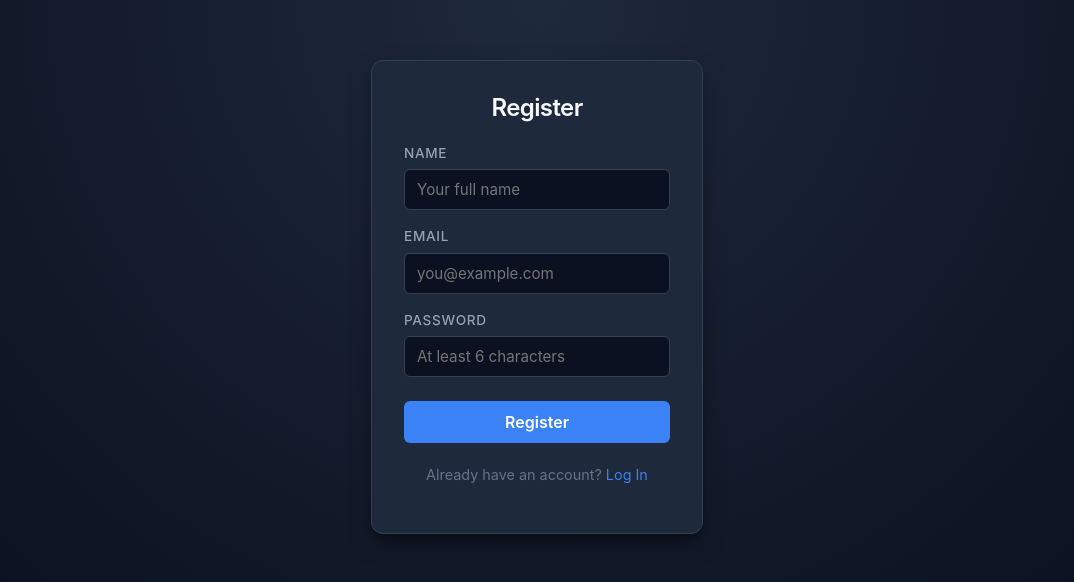
RegisterPage › register with a password under 6 characters shows a length error
Fill in fields using a short 3-character password
Step 1. Type "Alice" into the field labelled "Name" → (537, 190), box x1=404 y1=169 x2=670 y2=210
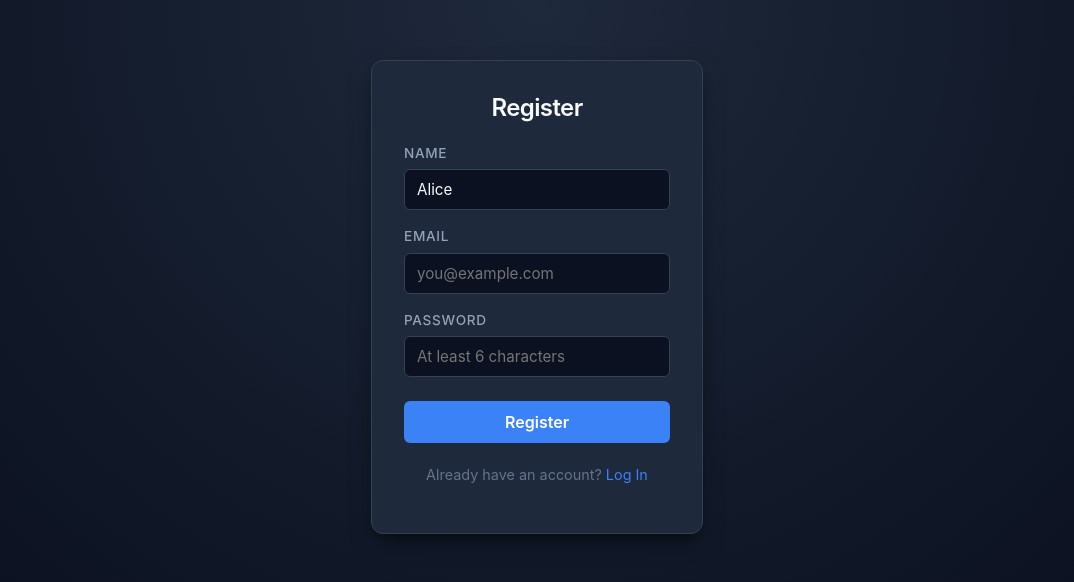
Step 2. Type "alice@example.com" into the field labelled "Email" → (537, 273), box x1=404 y1=253 x2=670 y2=294
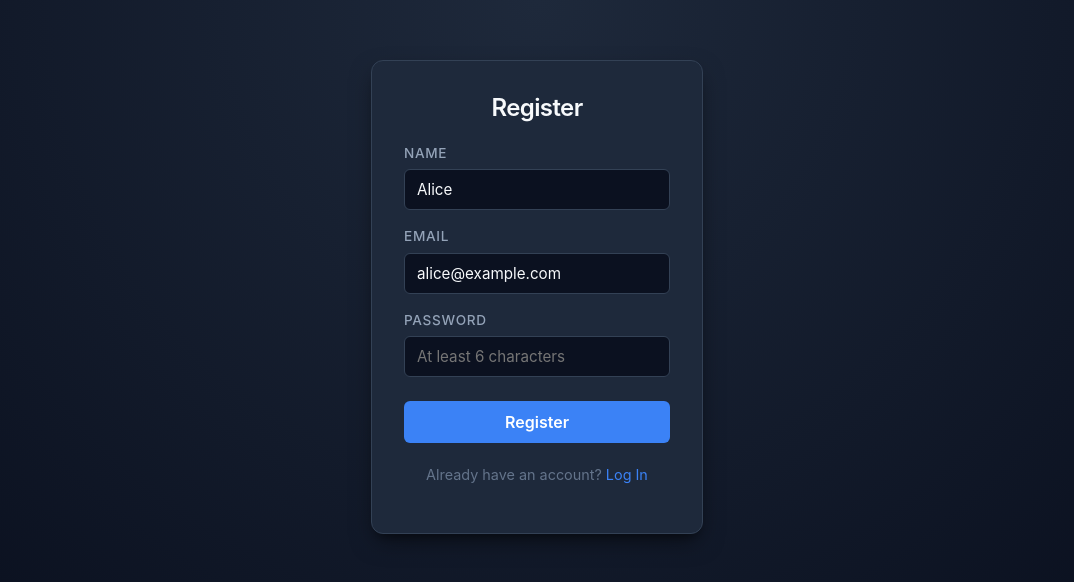
Step 3. Type "abc" into the password field labelled "Password" → (537, 357), box x1=404 y1=336 x2=670 y2=377
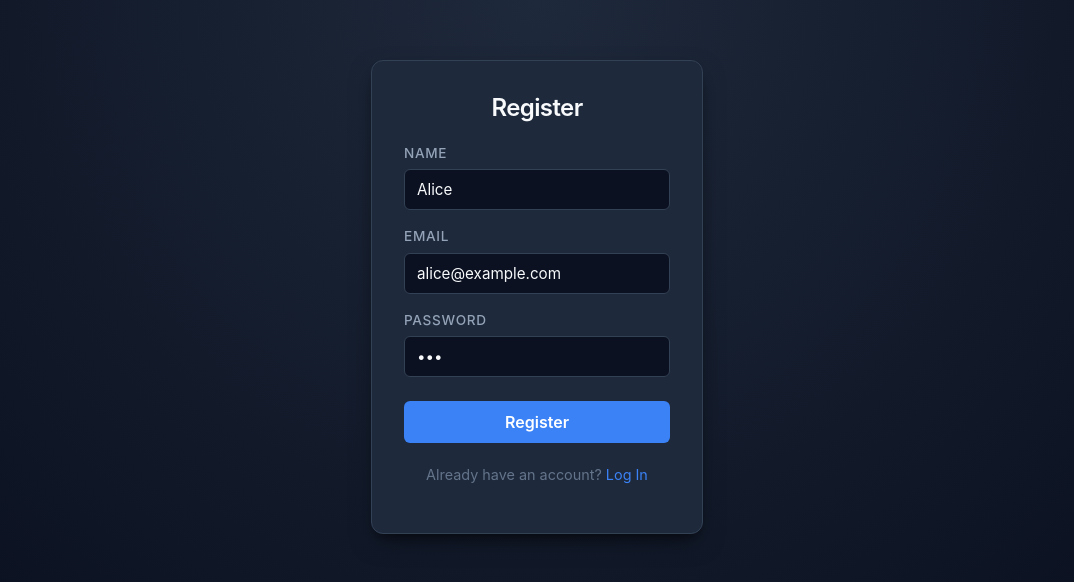
Submit the form
Step 4. Click the button "Register" → (537, 422), box x1=404 y1=401 x2=670 y2=443
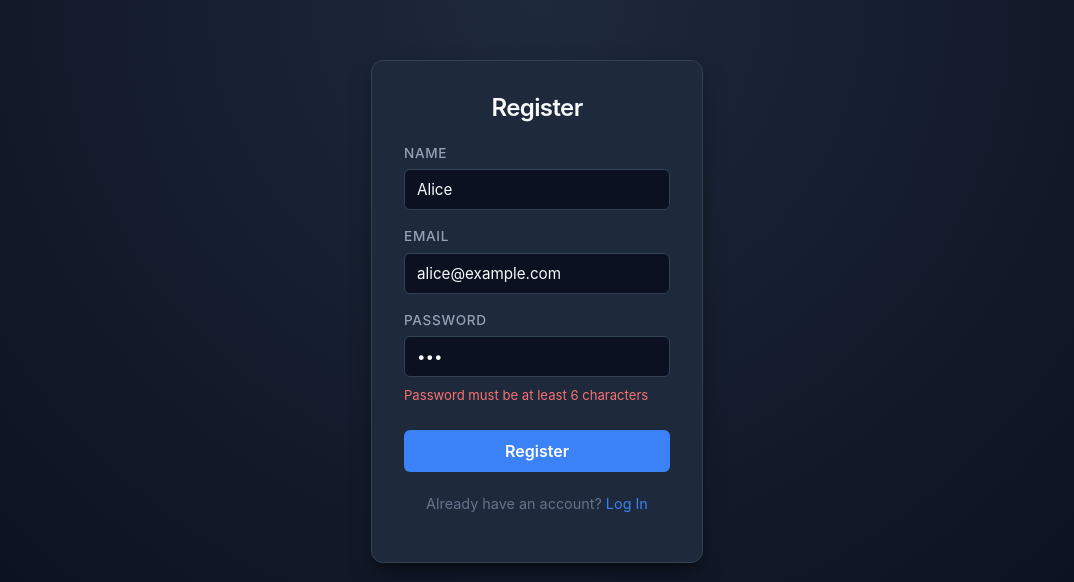
expect the text "Password must be at least 6 characters" is shown: met, box x1=404 y1=385 x2=670 y2=406
